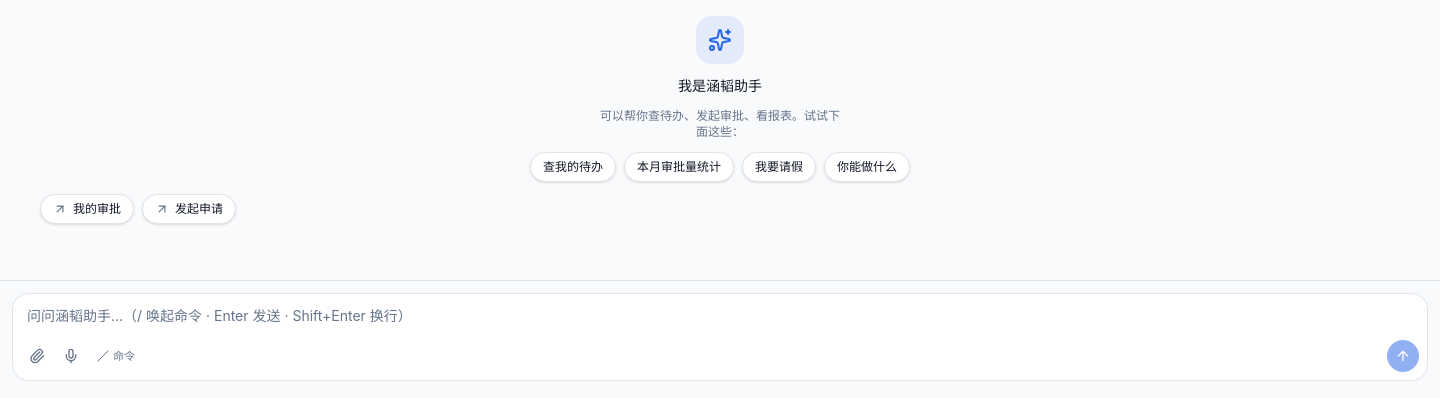
it: ChatView 一体化输入卡 › 输入中：有文本 → 发送键亮（可点）
The width and height of the screenshot is (1440, 398).
In the text box with placeholder "问问涵韬助手…（/ 唤起命令 · Enter 发送 · Shift+Enter 换行）": (720, 316) [13,294,1427,338], type "你好"
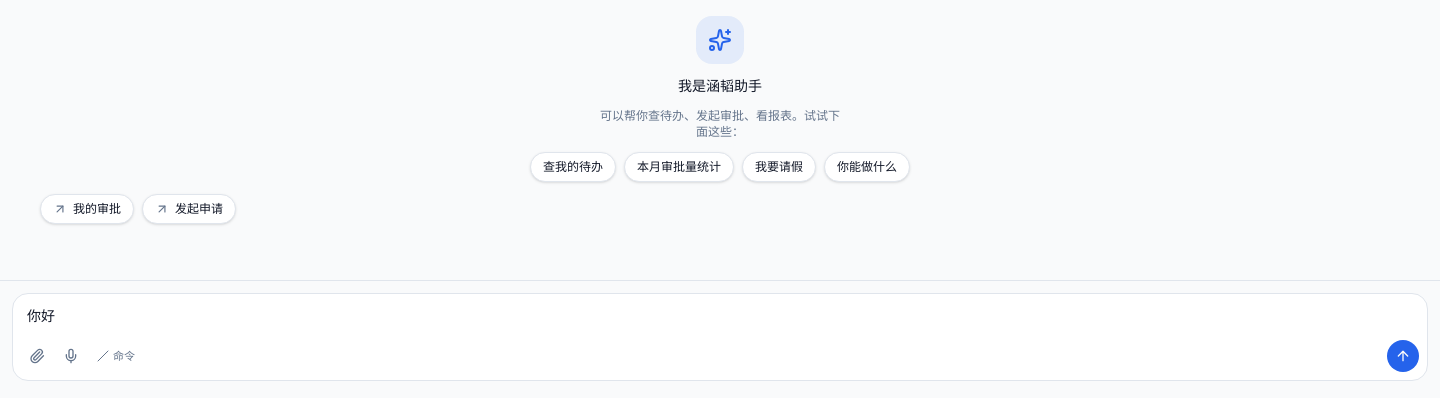
Now the button named "发送" is enabled, box [1387,340,1419,372]
